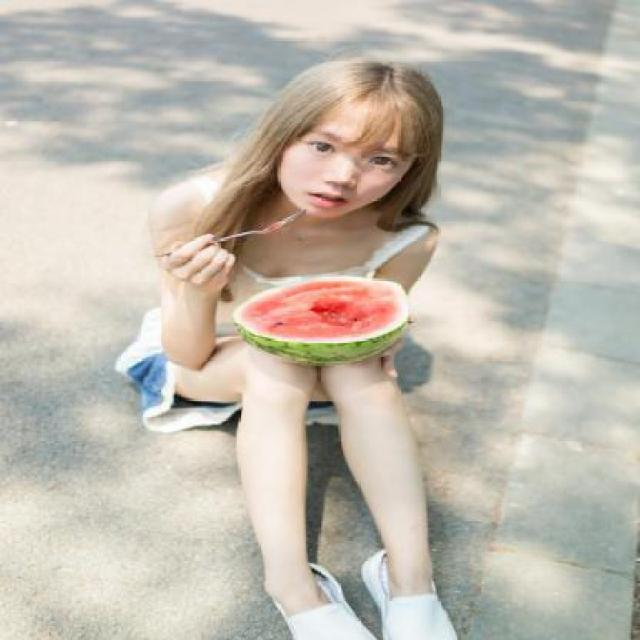Person: (143, 43, 465, 600)
